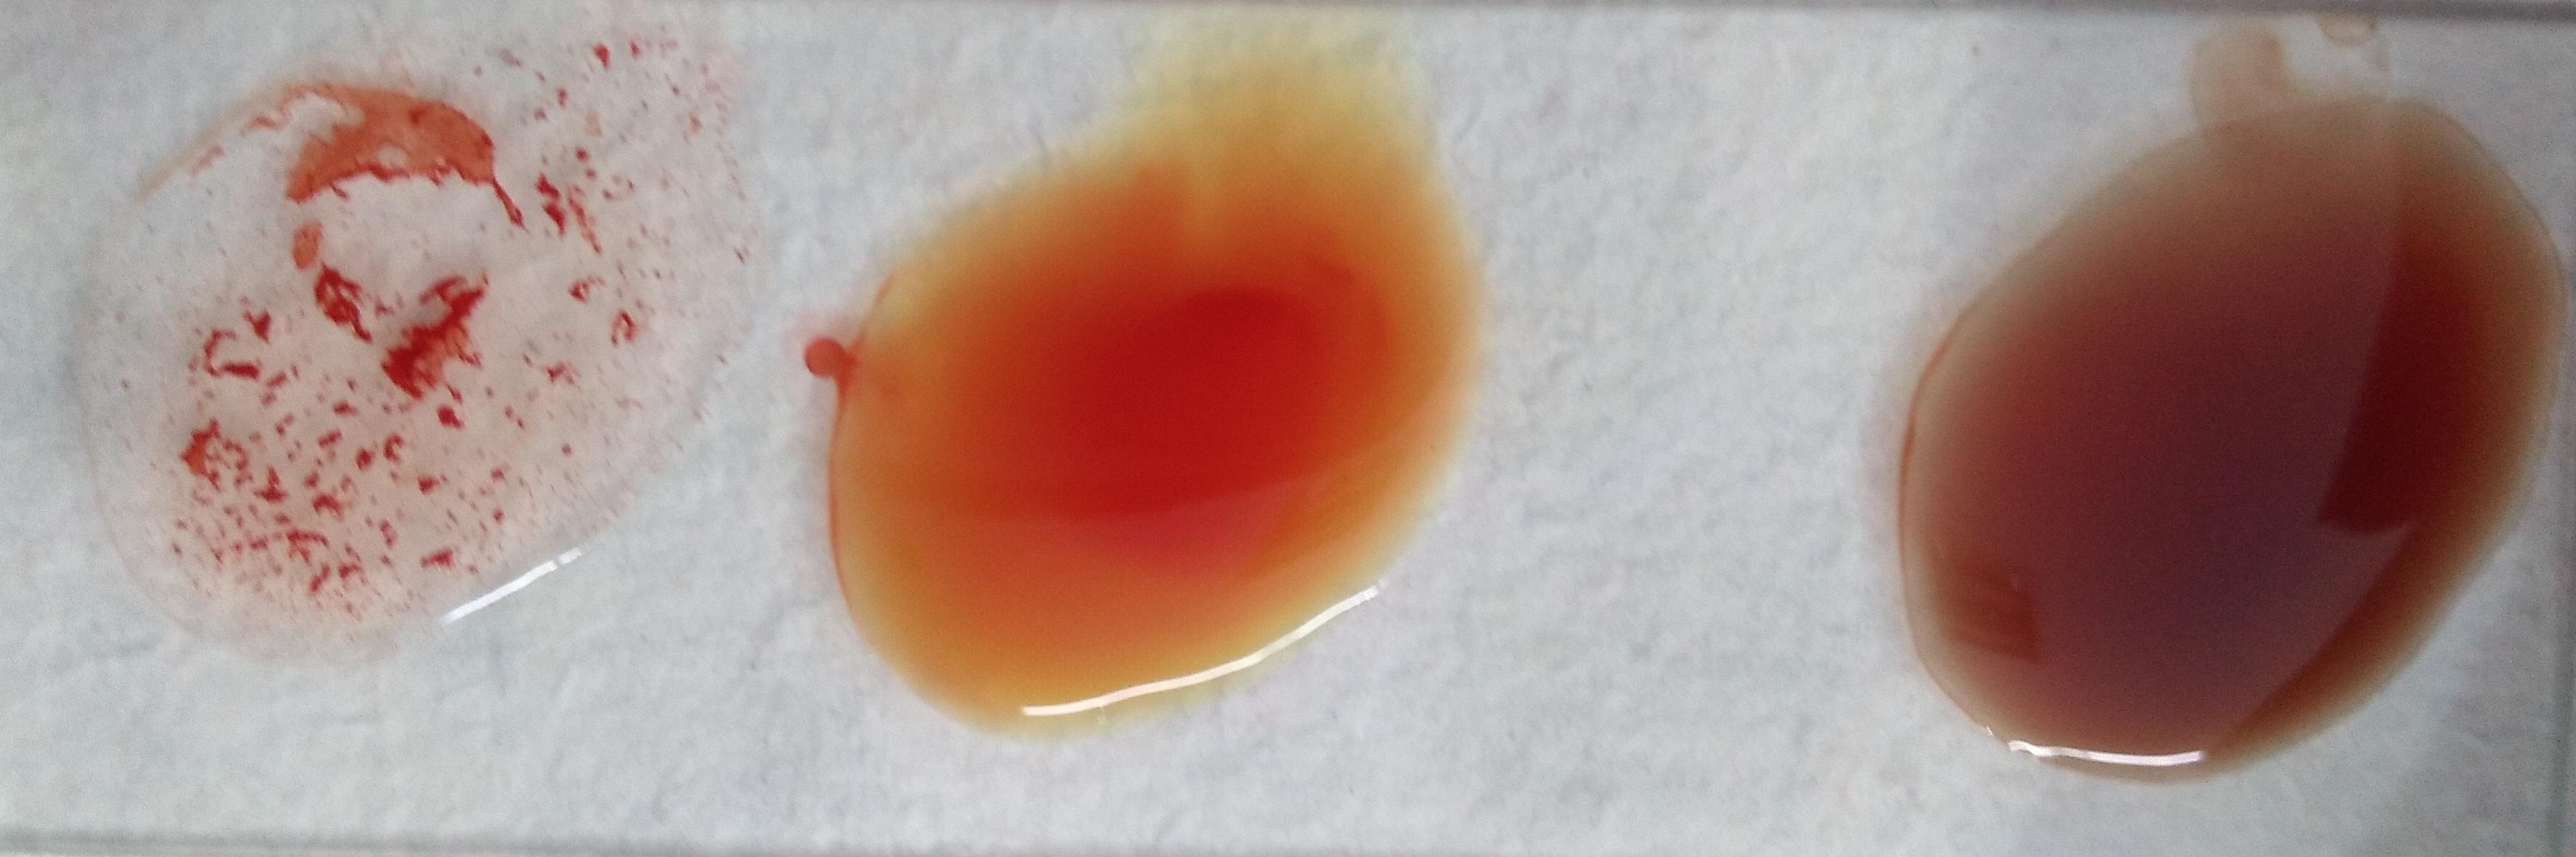D: (102, 34, 662, 627)
